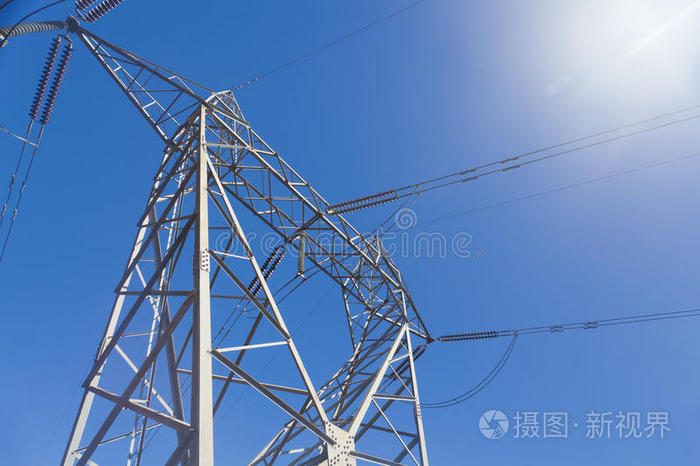insulator: (31, 37, 69, 127), (333, 187, 398, 216), (247, 247, 283, 294), (1, 19, 65, 38), (78, 1, 117, 21), (297, 231, 308, 272)
